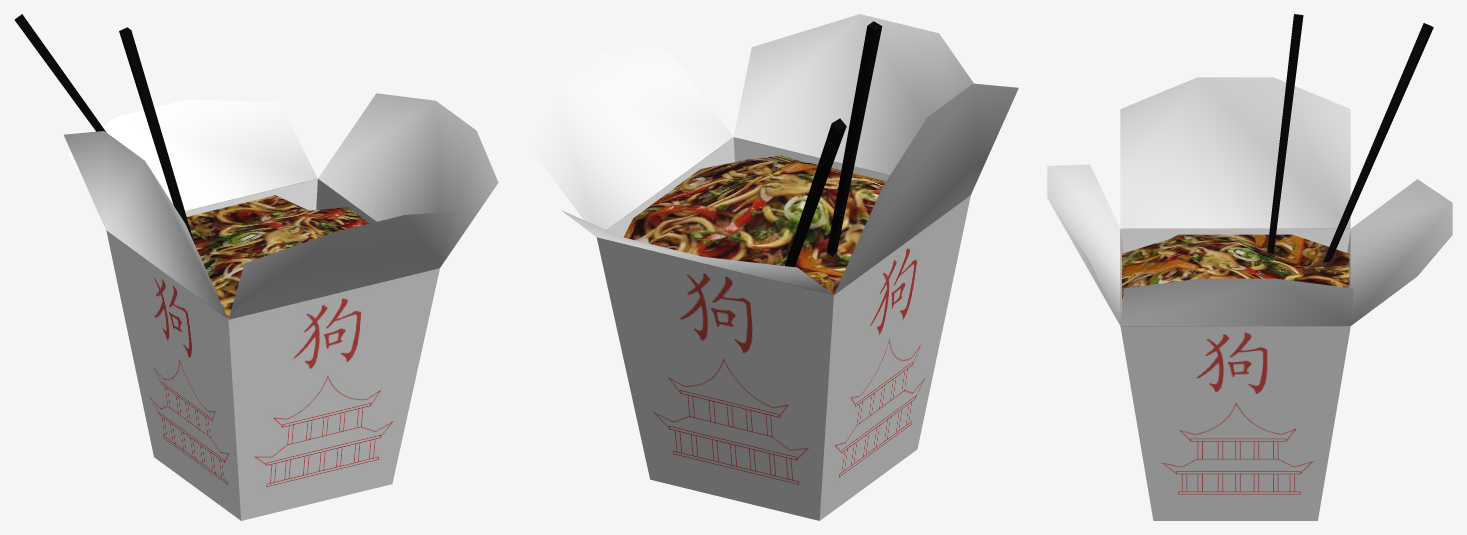
The model's file is Pates.fbx.
The picture shows the model from 3 angles, left to right: view 1: azimuth 30°, elevation 25°; view 2: azimuth 150°, elevation 25°; view 3: azimuth 270°, elevation 25°; orthographic projection. The views are drawn at different scales.
Visible parts, largest first — view 1: Pates; view 2: Pates; view 3: Pates.
Part boxes in pixels (box(x1,y1,x2,y2)): Pates: box(14, 14, 498, 520); Pates: box(527, 14, 1018, 520); Pates: box(1047, 14, 1452, 520).
Size of the model in its own units: 29.6 by 33.82 by 27.09.
